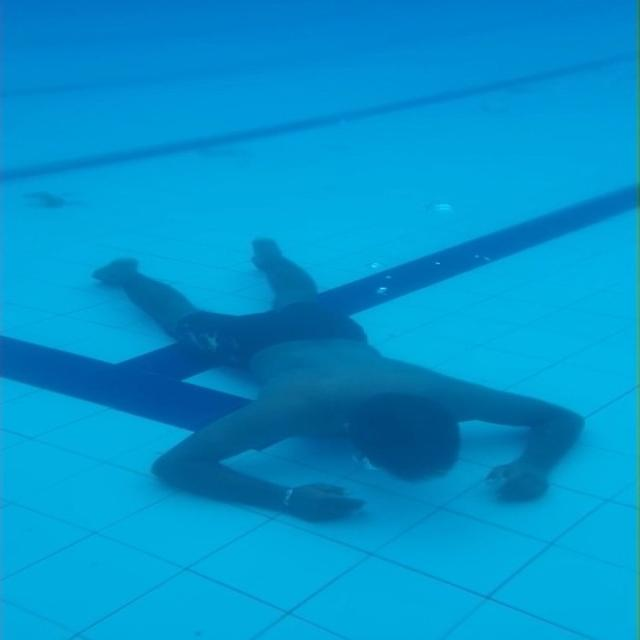Drowning: (93, 237, 588, 523)
